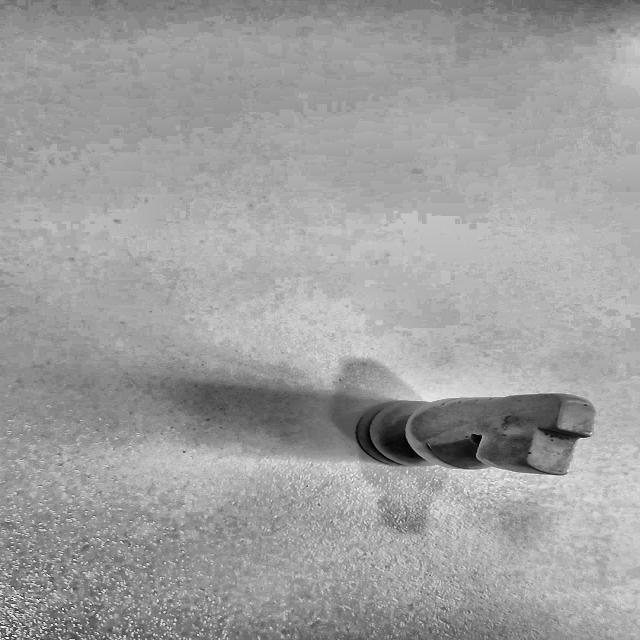white-knight: (347, 364, 603, 508)
